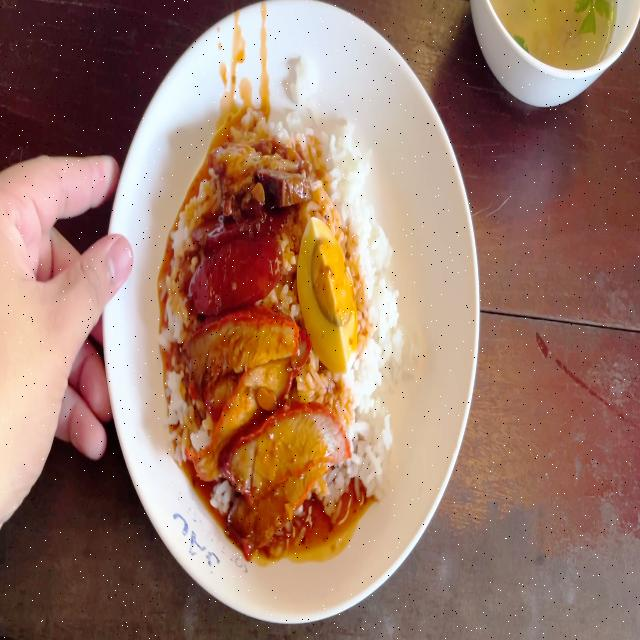boiled_egg: (301, 230, 355, 370)
chainese_sausage: (188, 215, 287, 305)
crispy_pork: (208, 130, 298, 197)
red_pork: (189, 315, 302, 485), (222, 398, 340, 532)
red_pork_and_crispy_pork: (169, 112, 397, 513)
rice: (352, 225, 394, 388), (298, 129, 369, 219), (347, 397, 389, 507)
